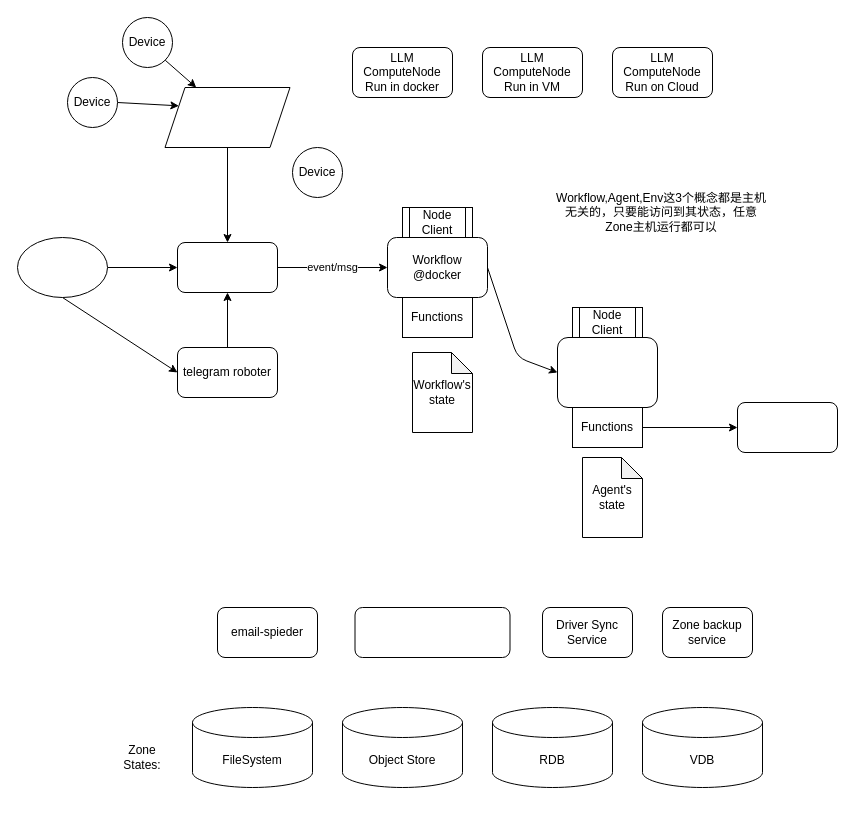
Image size: 855x815. Some labels were removed from this diagram. Here are the shapes that lost their labels. From the top down, the box of each, then its label:
(164, 86, 290, 148): Environment
(16, 236, 108, 298): User Msg
(176, 242, 278, 292): Gateway
(556, 336, 658, 408): Agent@docker
(736, 402, 838, 452): ComputeNode Run in docker
(354, 606, 510, 658): embading pipline
